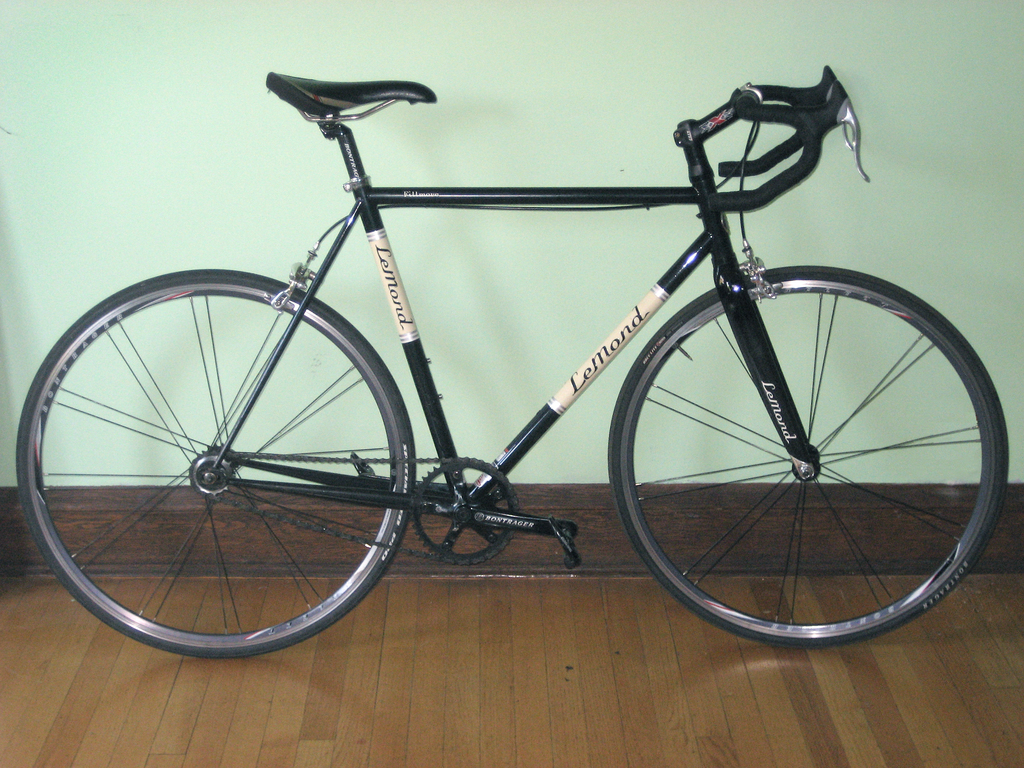Bike: (64, 35, 1000, 653)
